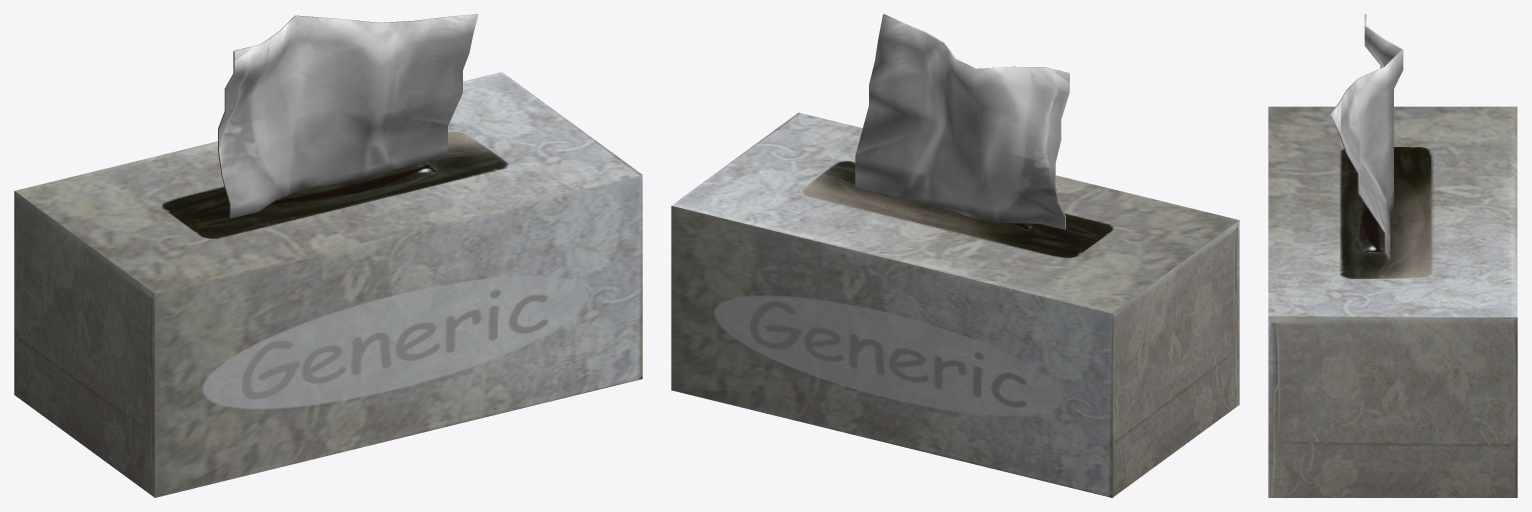
Rendered from Tissue Box_lod2.fbx.
3 renders of one model, left to right at view 1: azimuth 30°, elevation 25°; view 2: azimuth 150°, elevation 25°; view 3: azimuth 270°, elevation 25°, orthographic. The views are drawn at different scales.
Visible parts, largest first — view 1: Tissue_Box; view 2: Tissue_Box; view 3: Tissue_Box.
Boxes of the visible parts, x1,y1,x2,y2 form: Tissue_Box: (14, 14, 642, 497); Tissue_Box: (671, 14, 1239, 497); Tissue_Box: (1268, 14, 1517, 497).
Bounding box in the file's own units: 5 × 3.66 × 2.5.
